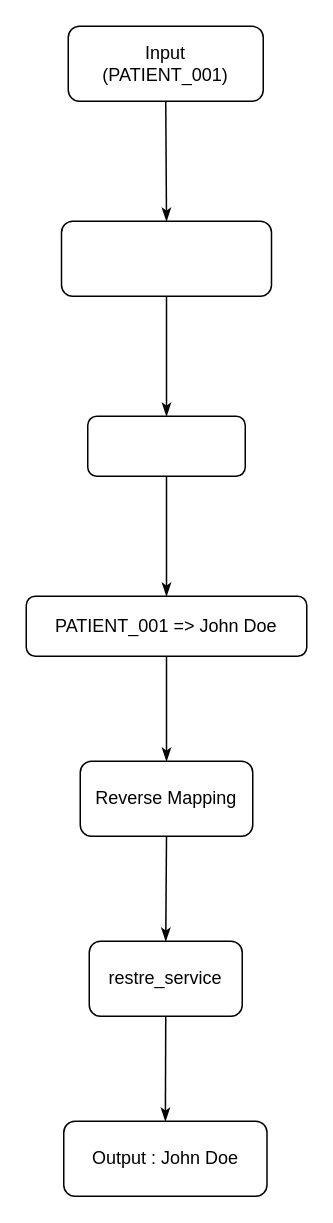
This 333x1223 diagram has some shape labels left out. The shapes that lost their labels are listed below. From the top down, each one's centre as x and y in pixels, then its label:
the point at 166,258: mapping_service (GET KEY / TOKEN)
the point at 165,445: Redis Lookup
